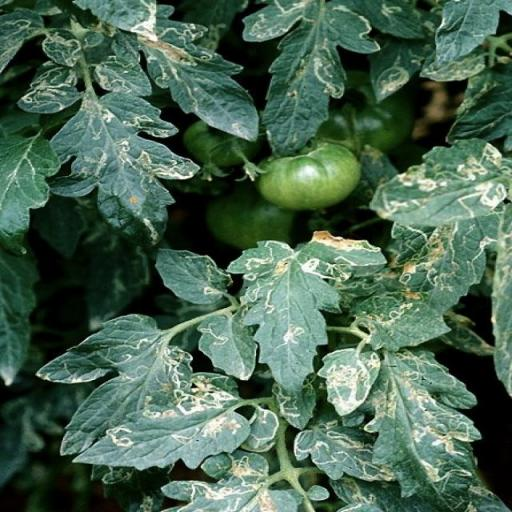disease_tomato: (50, 88, 200, 246), (36, 312, 194, 456), (242, 0, 382, 158), (110, 4, 258, 140), (364, 351, 484, 512), (72, 372, 252, 470), (228, 239, 340, 395), (366, 137, 512, 228), (293, 416, 397, 482), (154, 244, 234, 306), (316, 347, 382, 417), (198, 312, 256, 380)
